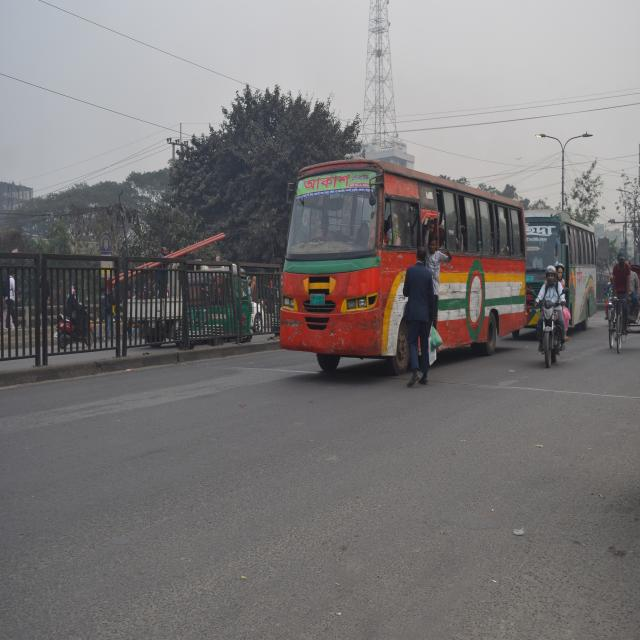bus: (271, 139, 533, 358), (530, 196, 597, 340)
motorbike: (532, 292, 573, 373)
